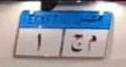1: (35, 32, 43, 50)
jeem: (69, 33, 83, 54)
meem: (87, 33, 97, 54)
